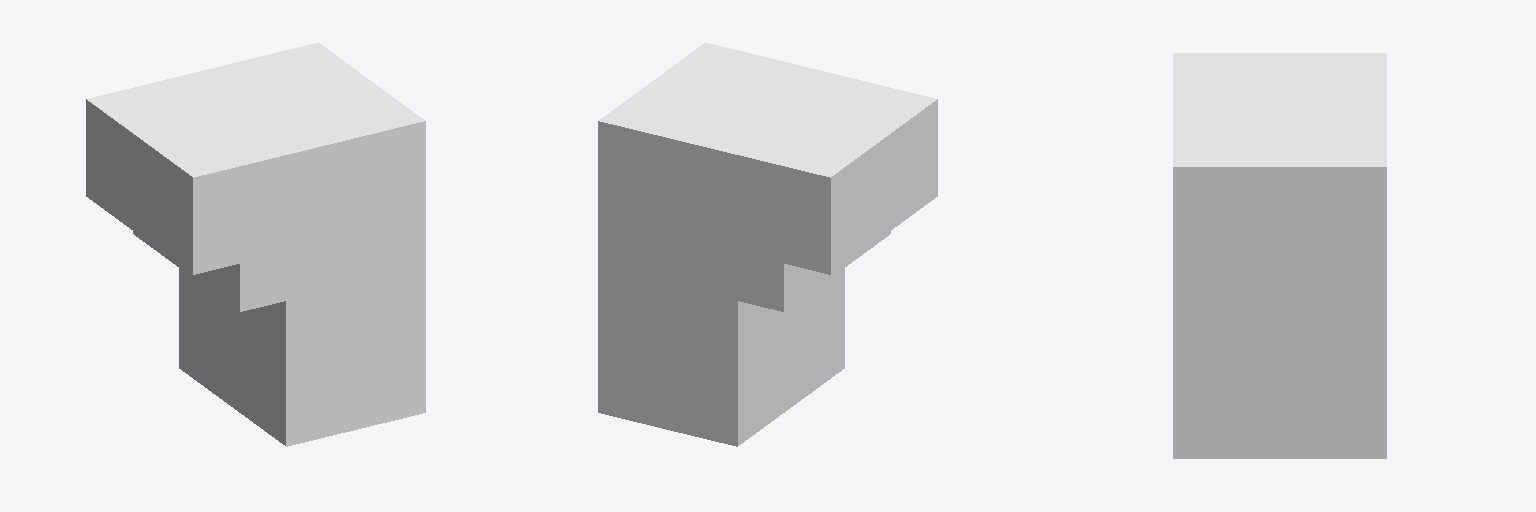
Rendered from gladiator-5.obj.
3 renders of one model, left to right at view 1: azimuth 30°, elevation 25°; view 2: azimuth 150°, elevation 25°; view 3: azimuth 270°, elevation 25°, orthographic.
Visible parts, largest first — view 1: object 1; view 2: object 1; view 3: object 1.
Part boxes in pixels (x1,y1,x2,y2): object 1: (86,42,425,446); object 1: (598,42,937,446); object 1: (1173,53,1386,458).
Size of the model in its own units: 0.5 by 0.6 by 0.4.